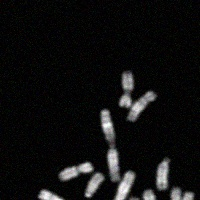chromosome: (97, 108, 120, 181), (127, 90, 157, 122), (109, 171, 136, 200), (57, 161, 92, 181), (117, 70, 133, 108), (37, 187, 74, 200), (84, 173, 103, 198), (156, 157, 170, 189), (170, 186, 194, 200), (143, 190, 163, 200), (128, 197, 142, 200)
